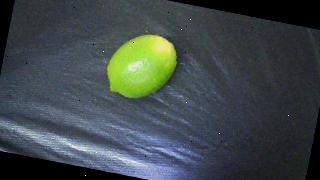LOCAL: (103, 27, 181, 105)
